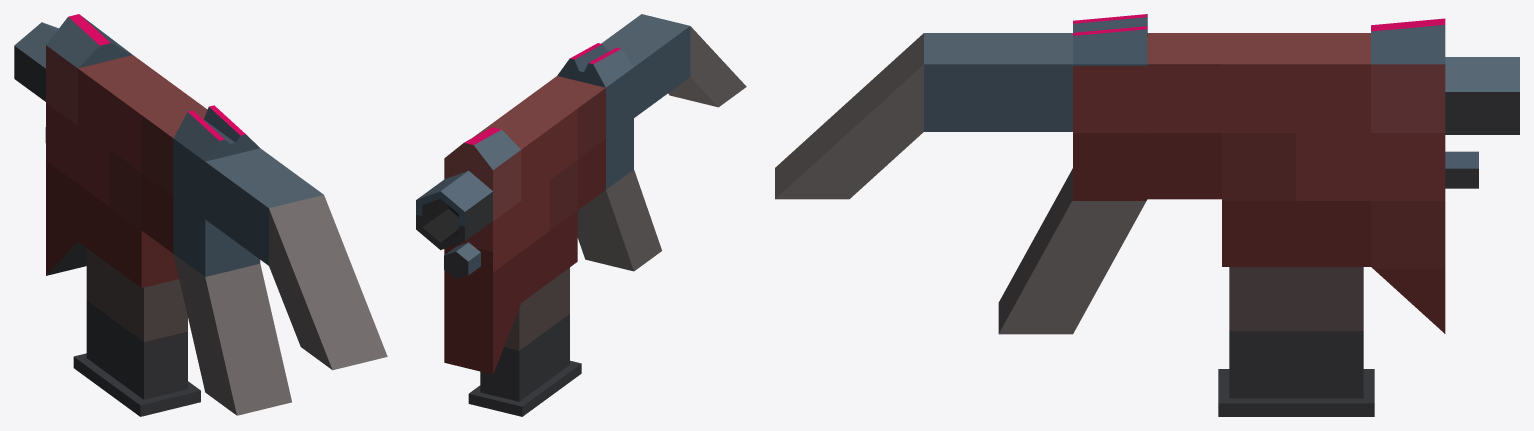
File: ShortGun.gltf
3 views of the same model, side by side, from view 1: azimuth 30°, elevation 25°; view 2: azimuth 150°, elevation 25°; view 3: azimuth 270°, elevation 25° (orthographic). The views are drawn at different scales.
Parts seen in each view (by area): view 1: body, magazine, barrel; view 2: body, magazine, barrel, cylinder; view 3: body, magazine, barrel, cylinder.
Part boxes in pixels (<box>): body: <box>46,14,387,415</box>; magazine: <box>73,248,200,416</box>; barrel: <box>14,22,58,101</box>; body: <box>444,14,746,374</box>; magazine: <box>468,267,581,416</box>; barrel: <box>416,170,492,250</box>; cylinder: <box>444,242,480,279</box>; body: <box>775,14,1445,334</box>; magazine: <box>1218,267,1374,416</box>; barrel: <box>1445,57,1519,134</box>; cylinder: <box>1445,151,1478,188</box>.
Size of the model in its own units: 0.0687 by 0.35 by 0.625.
1 material, 1 textured.
